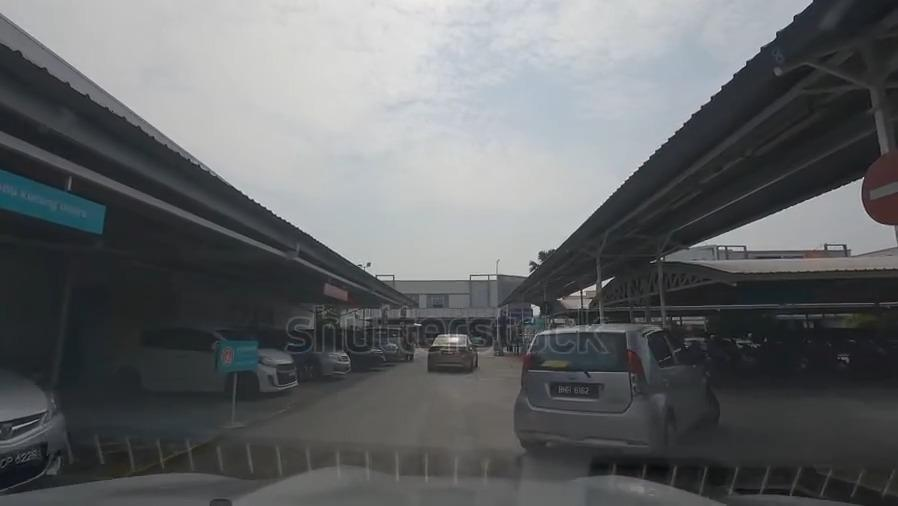car: (511, 327, 722, 451), (122, 327, 300, 395), (0, 379, 73, 484), (255, 334, 349, 379), (425, 335, 475, 374), (346, 346, 385, 371)
manhole: (729, 484, 808, 498)
person: (404, 330, 414, 363)
wheel: (234, 370, 258, 399), (660, 415, 674, 459), (705, 380, 719, 423), (118, 368, 136, 398), (301, 359, 319, 381)
